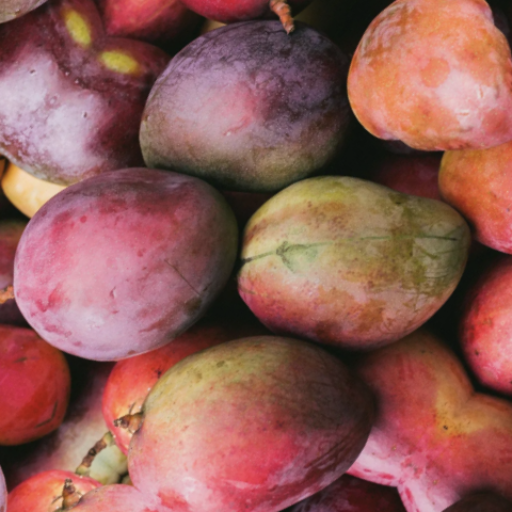mango: (183, 105, 509, 423), (0, 105, 273, 432), (79, 257, 425, 512), (98, 0, 400, 263)
